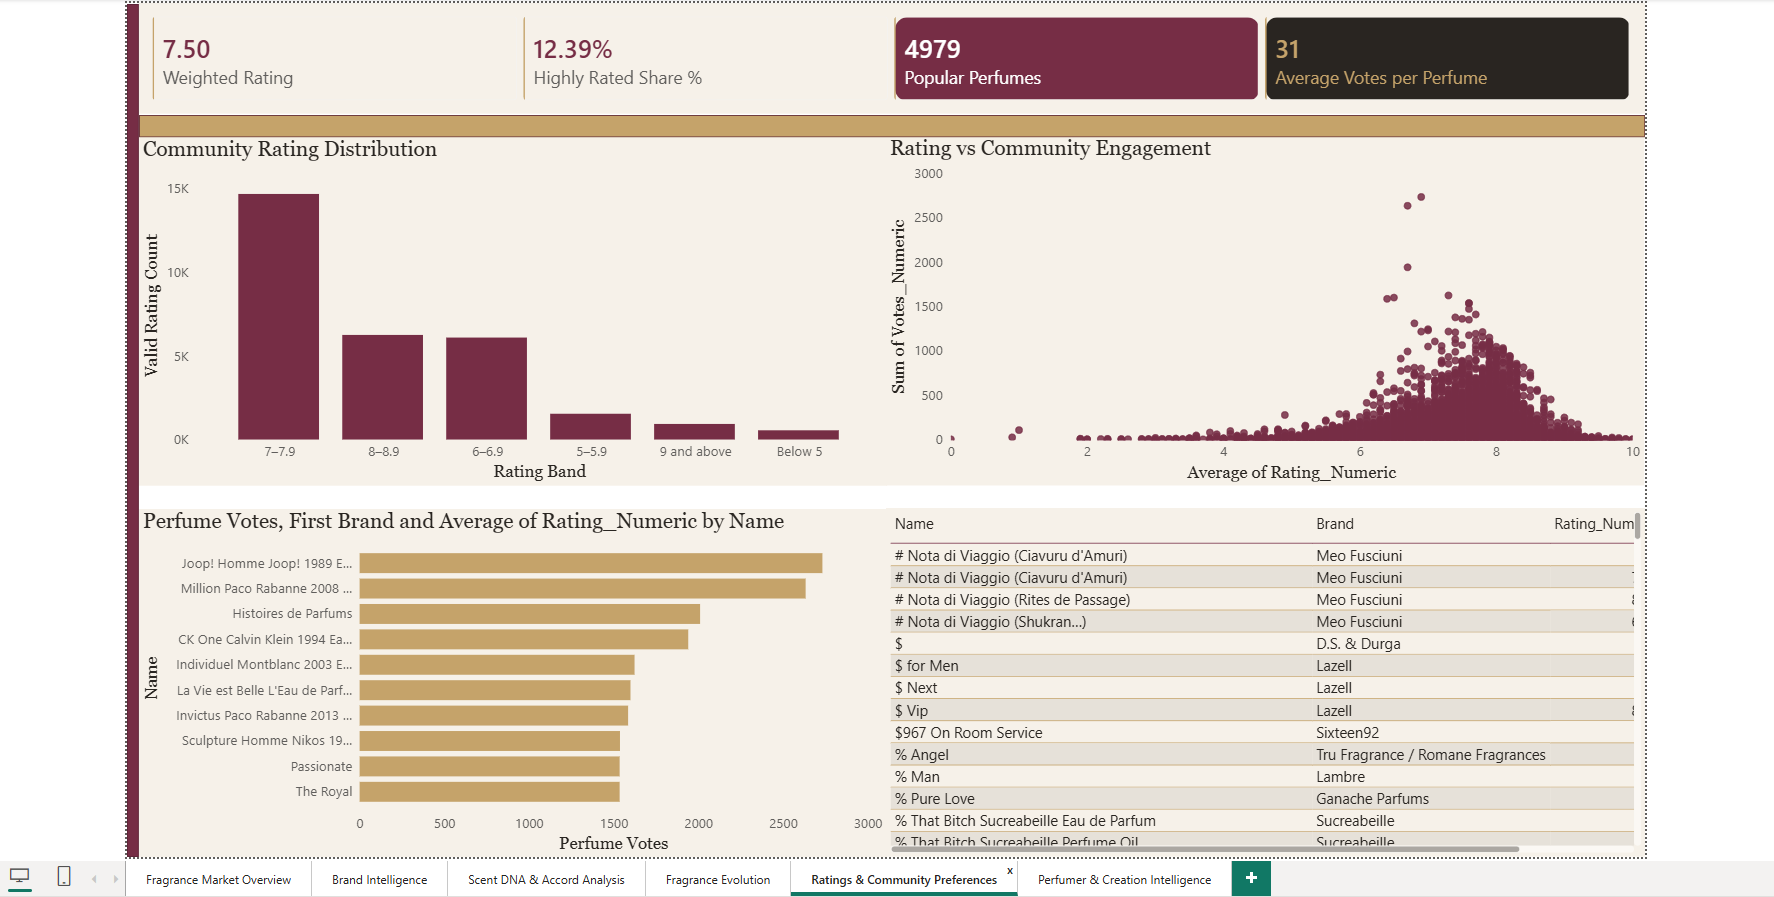

This screenshot's page, from the dashboard's own definition file:
{"tool":"powerbi","page":{"name":"Ratings & Community Preferences","canvas":[1920,1080],"ordinal":4},"visuals":[{"type":"cardVisual","fields":{"Data":["Perfumes.Weighted Rating","Perfumes.Highly Rated Share %","Perfumes.Popular Perfumes","Perfumes.Average Votes per Perfume"]},"box":[14.8,0,1904.8,140],"z":0},{"type":"clusteredColumnChart","title":"\tCommunity Rating Distribution","fields":{"Category":["Perfumes.Rating Band"],"Y":["Perfumes.Valid Rating Count"]},"box":[14.8,169.3,945.7,440.6],"z":1000},{"type":"scatterChart","title":"\tRating vs Community Engagement","fields":{"X":["Avg(Perfumes.Rating_Numeric)"],"Y":["Sum(Perfumes.Votes_Numeric)"],"Category":["Perfumes.Perfume_ID"]},"box":[960.4,167.9,959.1,441.9],"z":2000},{"type":"clusteredBarChart","fields":{"Category":["Perfumes.Name"],"Y":["Perfumes.Perfume Votes"]},"box":[14.8,639.4,945.7,440.6],"z":3000},{"type":"tableEx","fields":{"Values":["Perfumes.Name","Perfumes.Brand","Perfumes.Rating_Numeric","Perfumes.Votes_Numeric"]},"box":[960,639,960,441],"z":4000},{"type":"shape","box":[0,1.3,14.8,1078.7],"z":5000},{"type":"shape","box":[14.8,141,1904.8,28.2],"z":6000}]}

Visuals, with their boxes on the page's 1920x1080 design canvas (x1, y1, x2, y2). These are canvas units, not pixel positions in the 1774x897 screenshot, which may show the page scaled, cropped or inside an application window:
cardVisual - Perfumes.Weighted Rating x Perfumes.Highly Rated Share %: 15 0 1920 140
"	Community Rating Distribution" clusteredColumnChart: 15 169 960 610
"	Rating vs Community Engagement" scatterChart: 960 168 1920 610
clusteredBarChart - Perfumes.Name x Perfumes.Perfume Votes: 15 639 960 1080
tableEx - Perfumes.Name x Perfumes.Brand: 960 639 1920 1080
shape: 0 1 15 1080
shape: 15 141 1920 169
